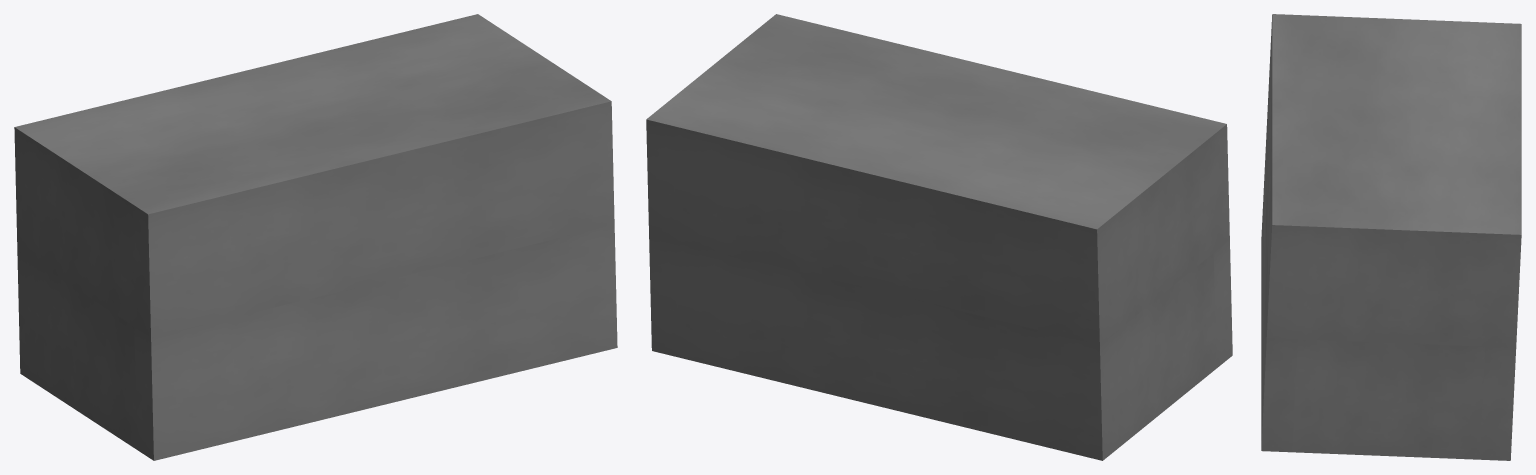
Rendered from dc_metro_arch_a12.obj.
3 renders of one model, left to right at view 1: azimuth 30°, elevation 25°; view 2: azimuth 150°, elevation 25°; view 3: azimuth 270°, elevation 25°, orthographic. The views are drawn at different scales.
Visible parts, largest first — view 1: part12; view 2: part12; view 3: part12.
Part boxes in pixels (<box>): part12: <box>14,14,617,460</box>; part12: <box>646,14,1232,460</box>; part12: <box>1261,14,1521,460</box>.
Bounding box in the file's own units: 2 × 1.04 × 1.04.
Materials: 1 (1 with a texture image).
